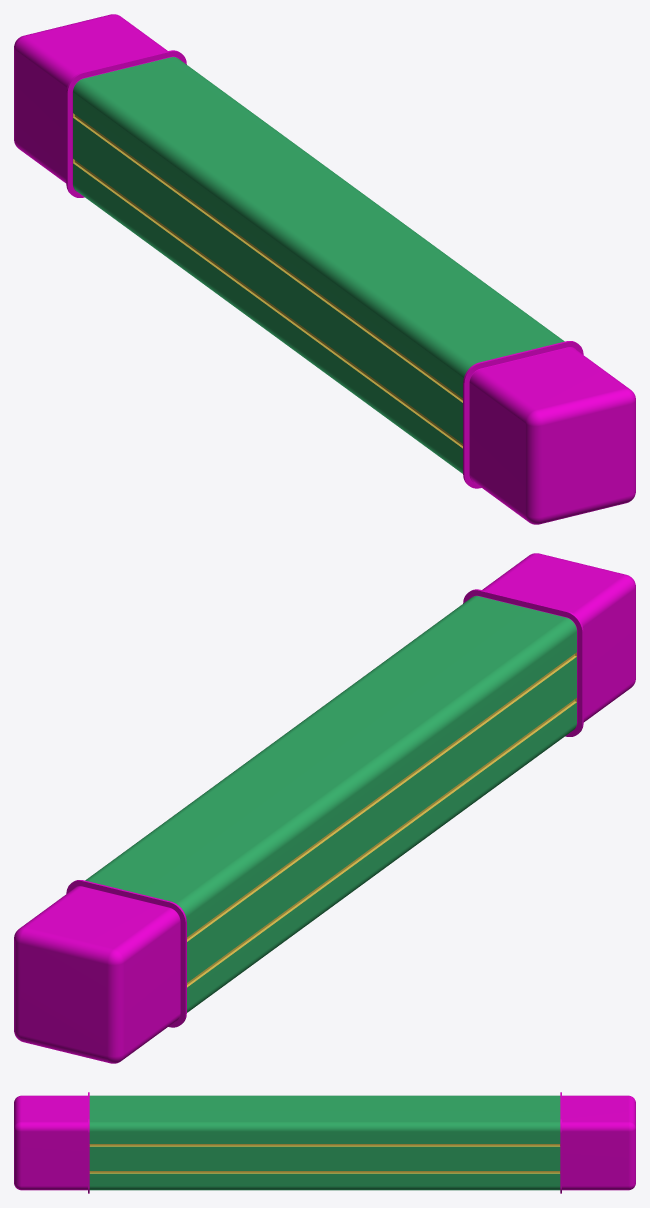
The model's file is SM_Room.fbx.
3 renders of one model, top to bottom at view 1: azimuth 30°, elevation 25°; view 2: azimuth 150°, elevation 25°; view 3: azimuth 270°, elevation 25°, orthographic. The views are drawn at different scales.
Visible parts, largest first — view 1: SM_Room; view 2: SM_Room; view 3: SM_Room.
Part boxes in pixels (x1,y1,x2,y2): SM_Room: (14, 14, 635, 524); SM_Room: (14, 553, 635, 1063); SM_Room: (14, 1092, 635, 1193).
Size of the model in its own units: 671 by 671 by 5095.
